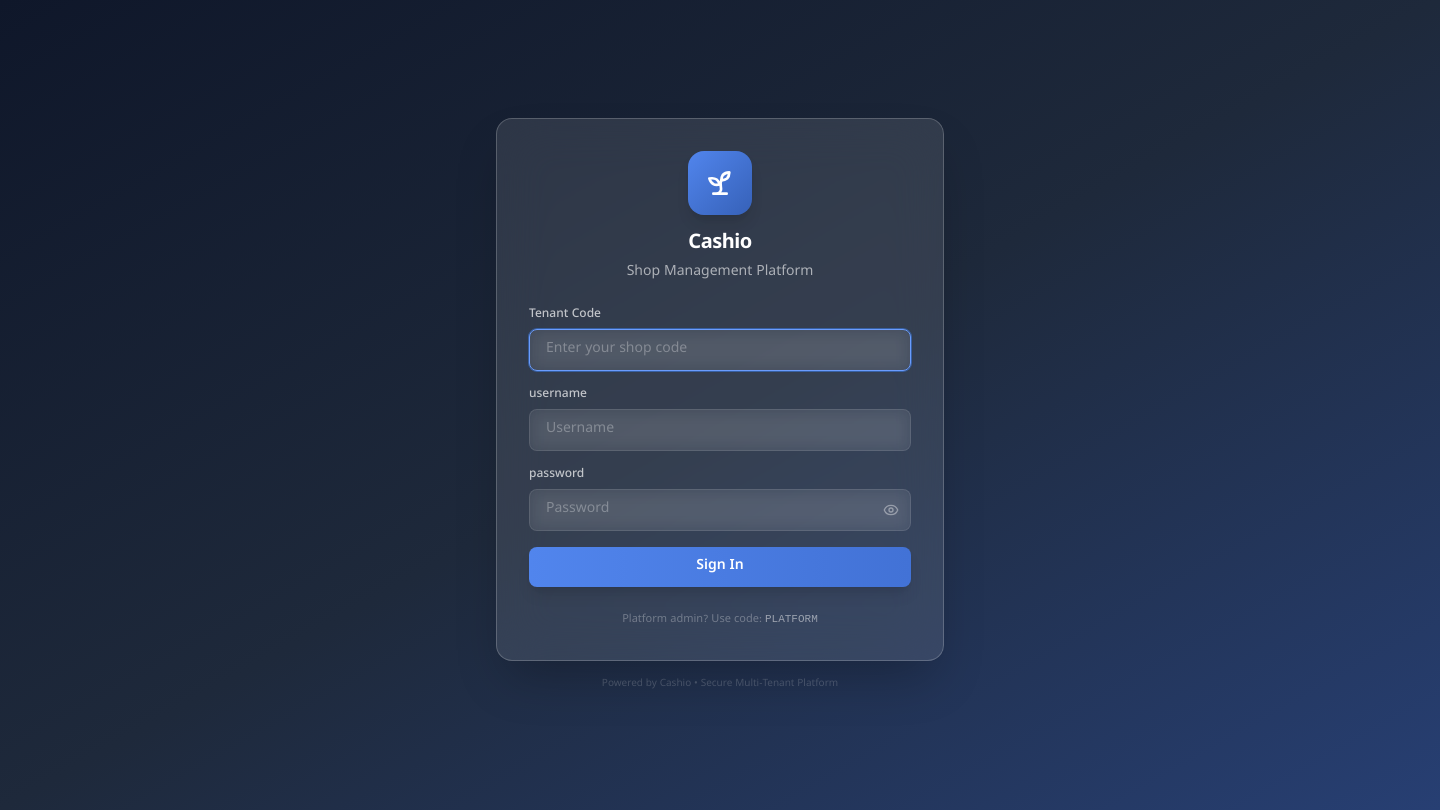
Login page › shows a friendly inline error and clears it after input changes
This screenshot has width=1440, height=810.
Type "tenant-one" into the field with placeholder "Enter your shop code". click: (720, 350)
box: [529,329,911,371]
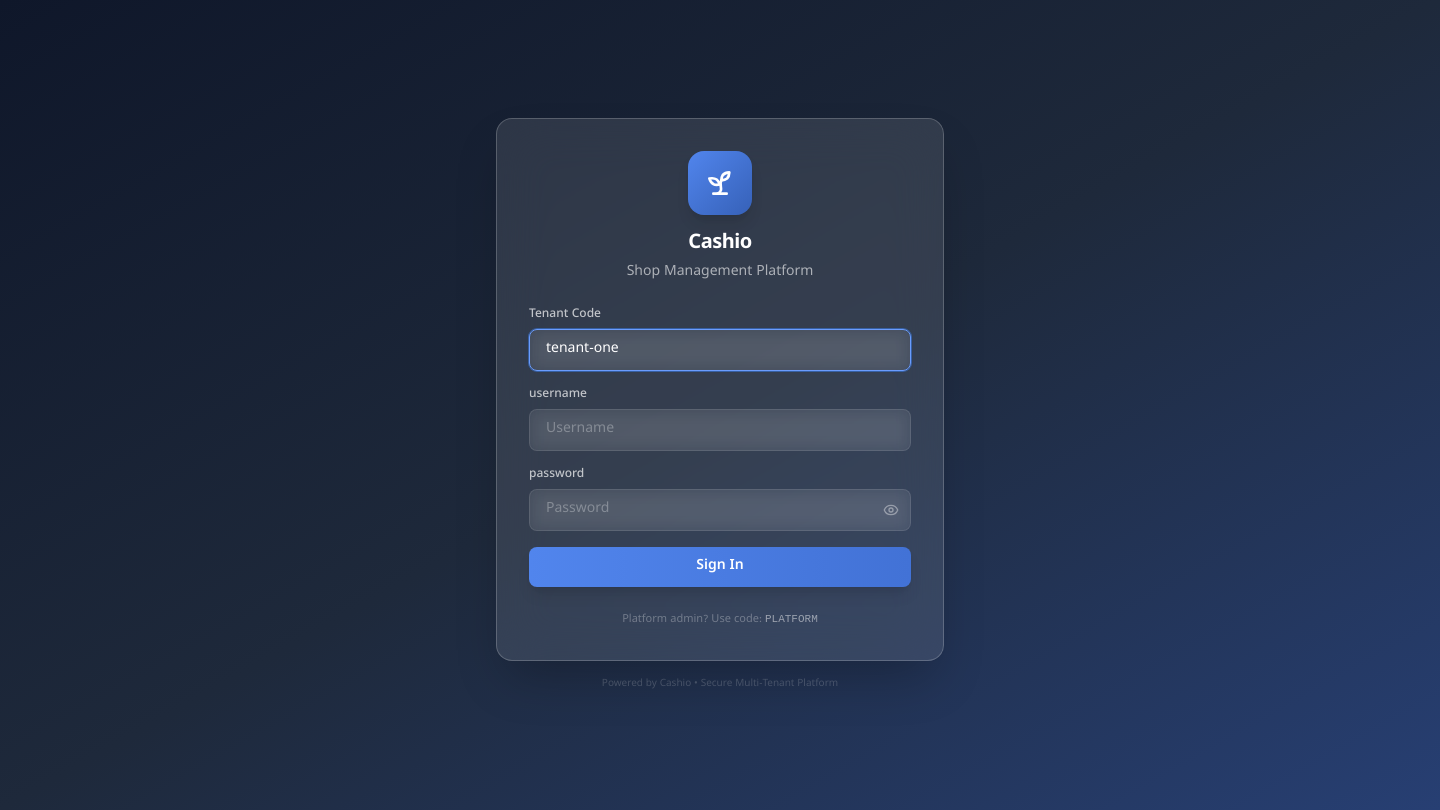
Type "admin" into the field with placeholder "Username". click: (720, 430)
box: [529,409,911,451]
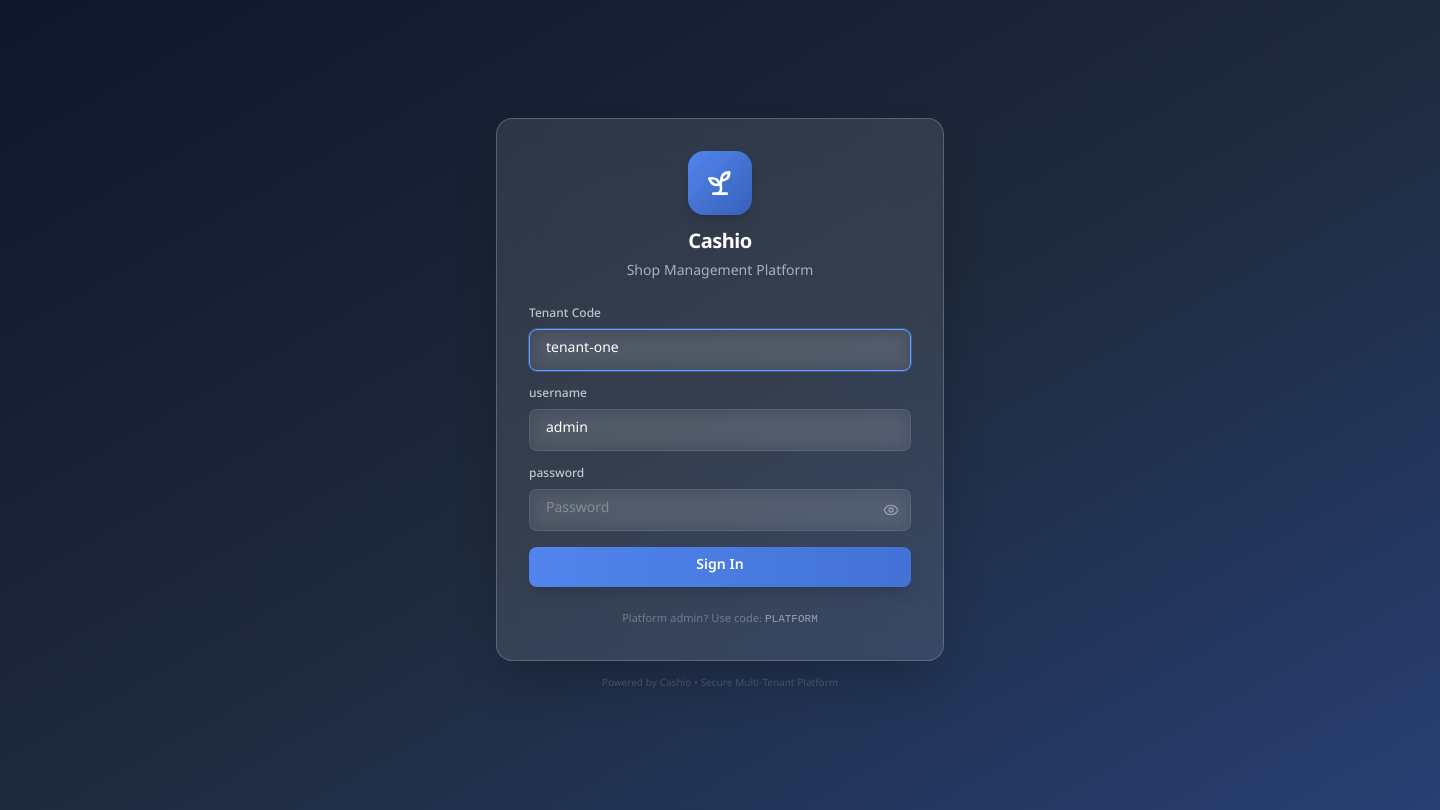
Type "wrong" into the password field with placeholder "Password". click: (720, 510)
box: [529,489,911,531]
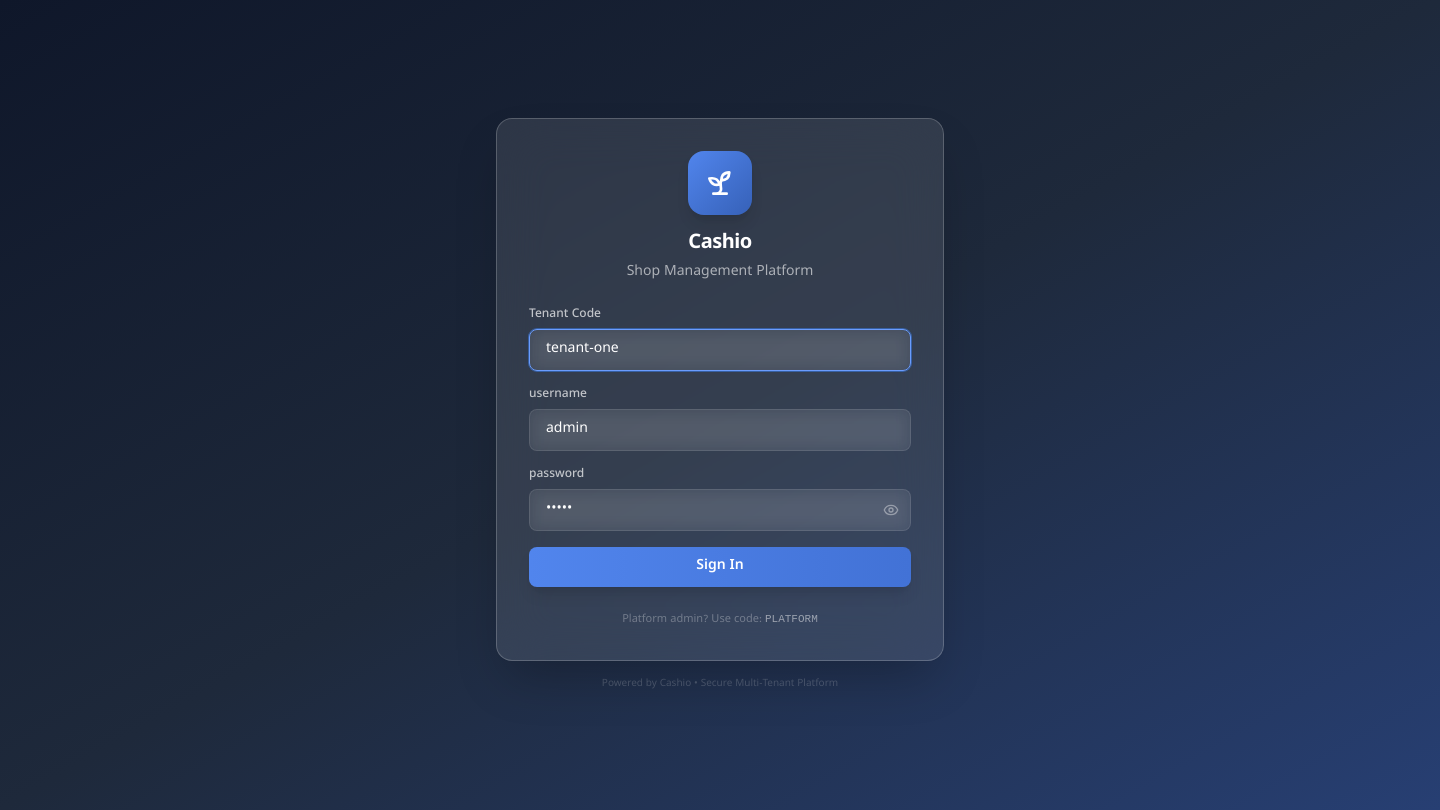
Click the button "Sign In". click: (720, 567)
box: [529,547,911,587]
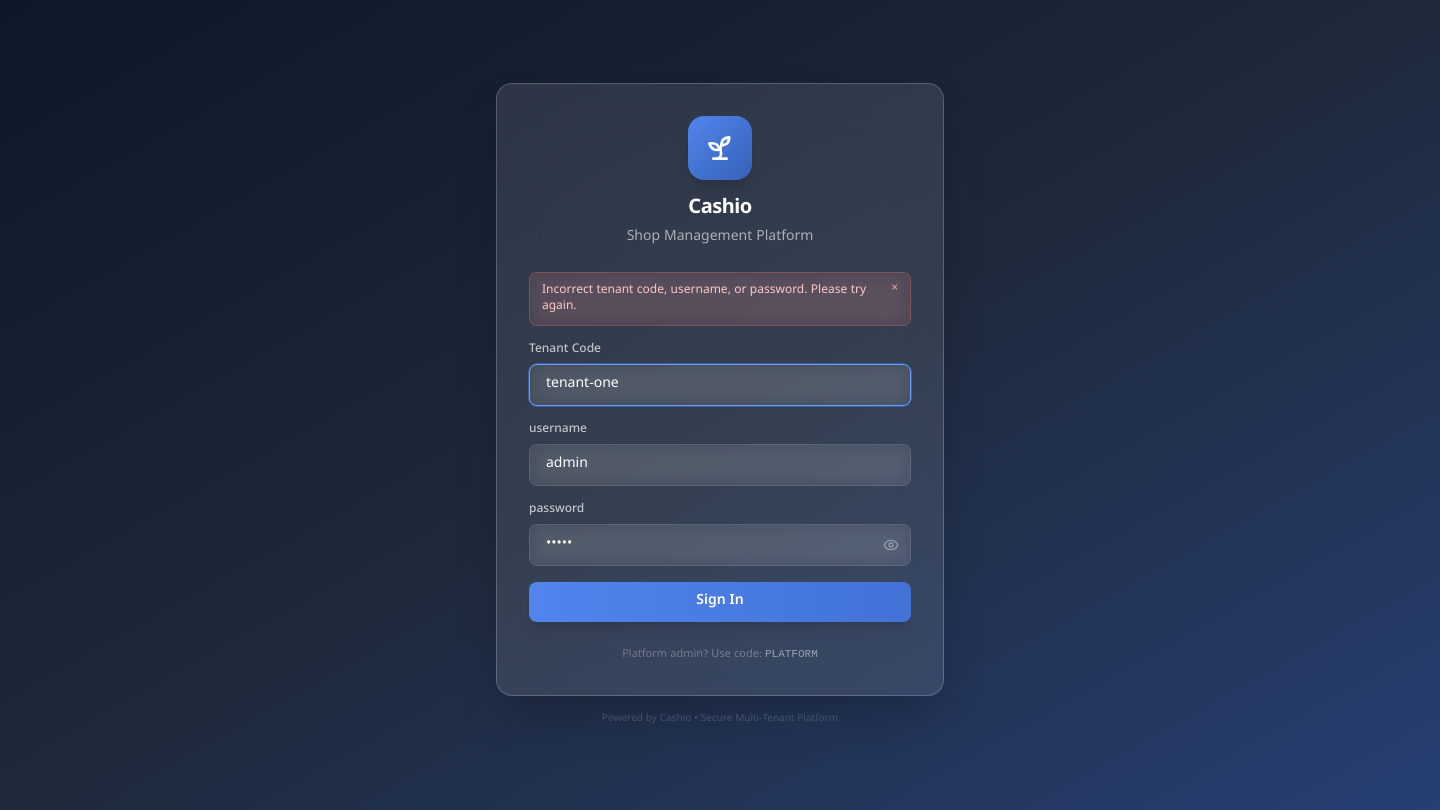
Expected: the message shows "Incorrect tenant code, username, or password. Please try again.", [542,283,866,315]
Replace the text in the 2nd field with placeholder "Username" with "admin2". click: (720, 465)
box: [529,444,911,486]
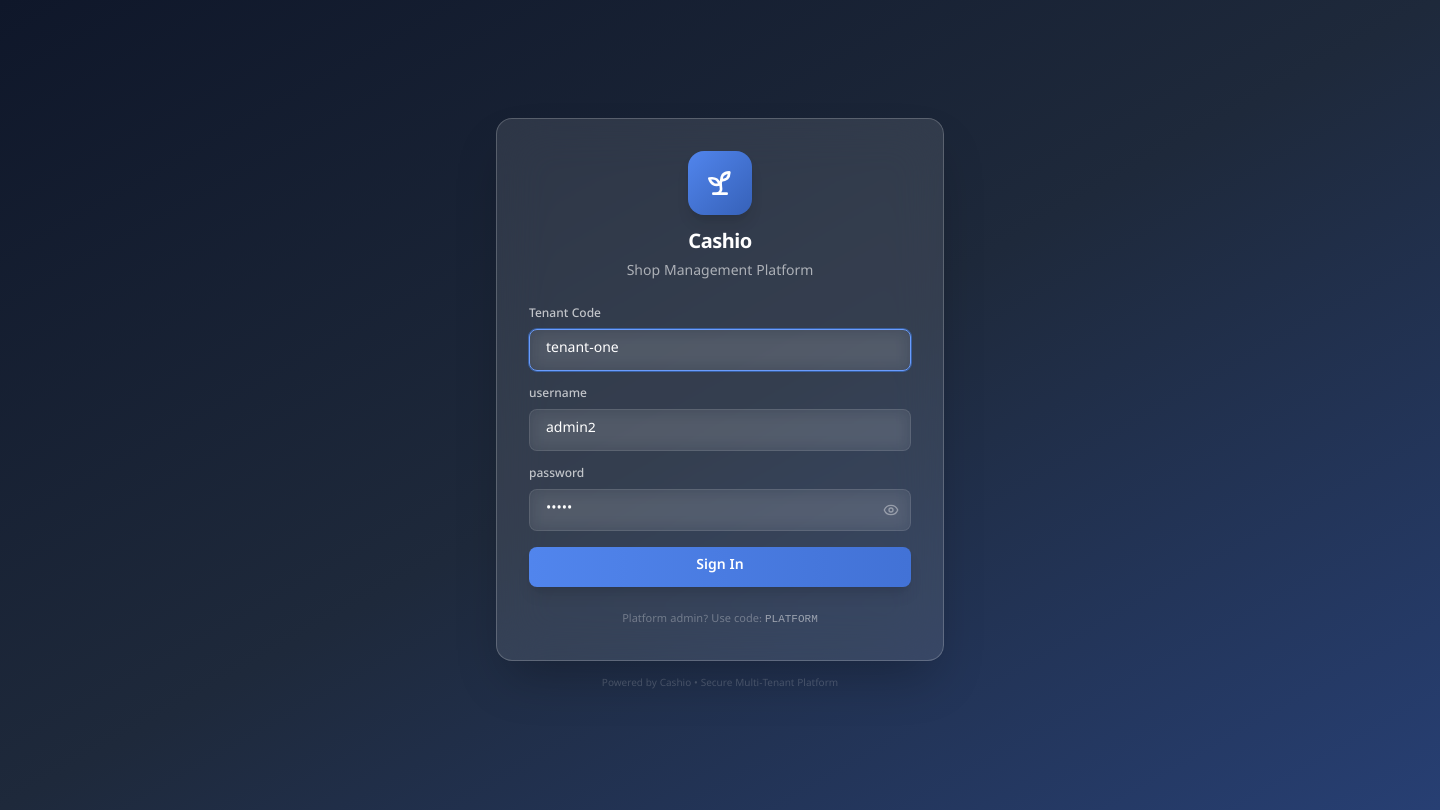
Expected: the message "Incorrect tenant code, username, or password. Please try again. ×" is gone
